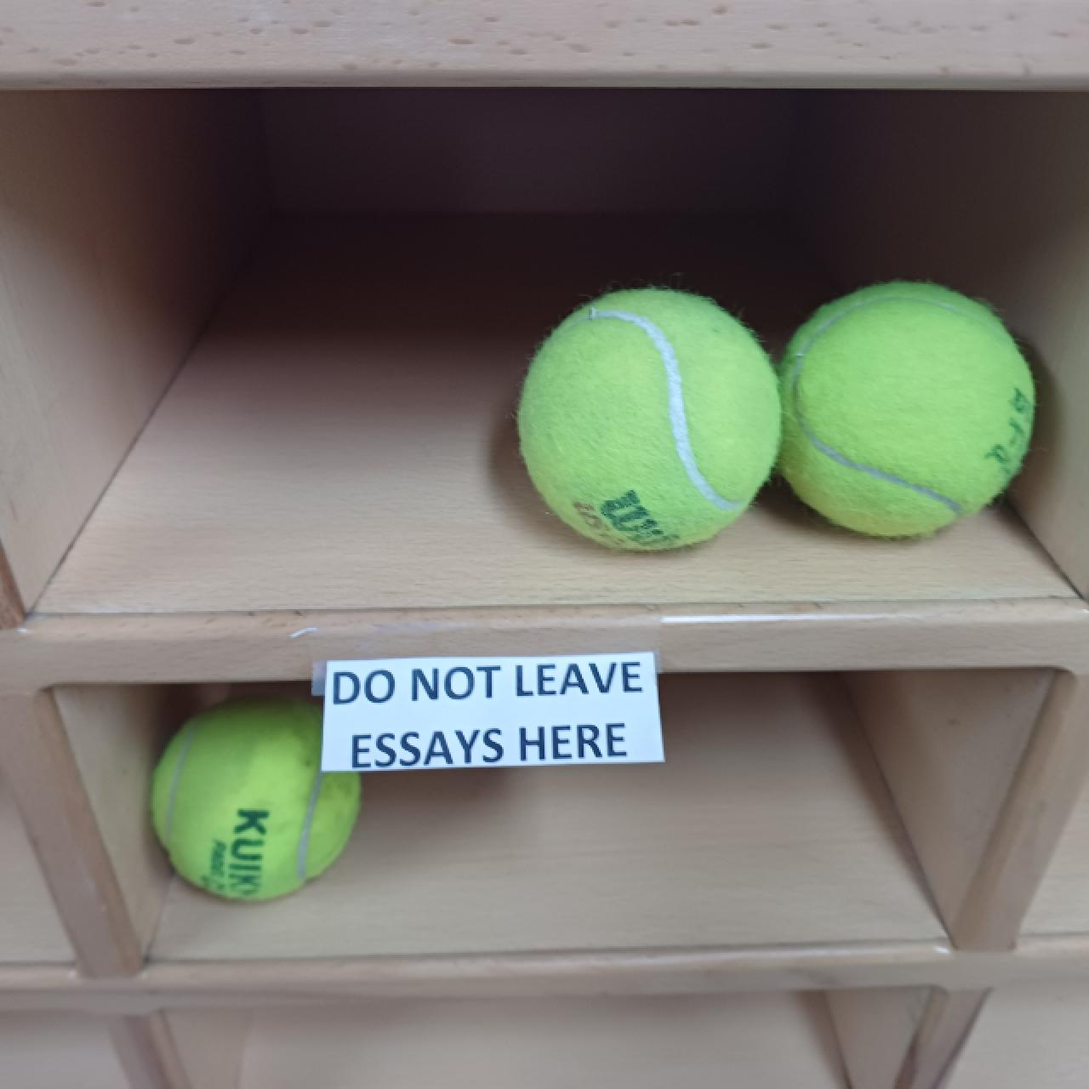tennis-ball: (512, 283, 783, 558), (769, 285, 1039, 542), (145, 694, 363, 905)
